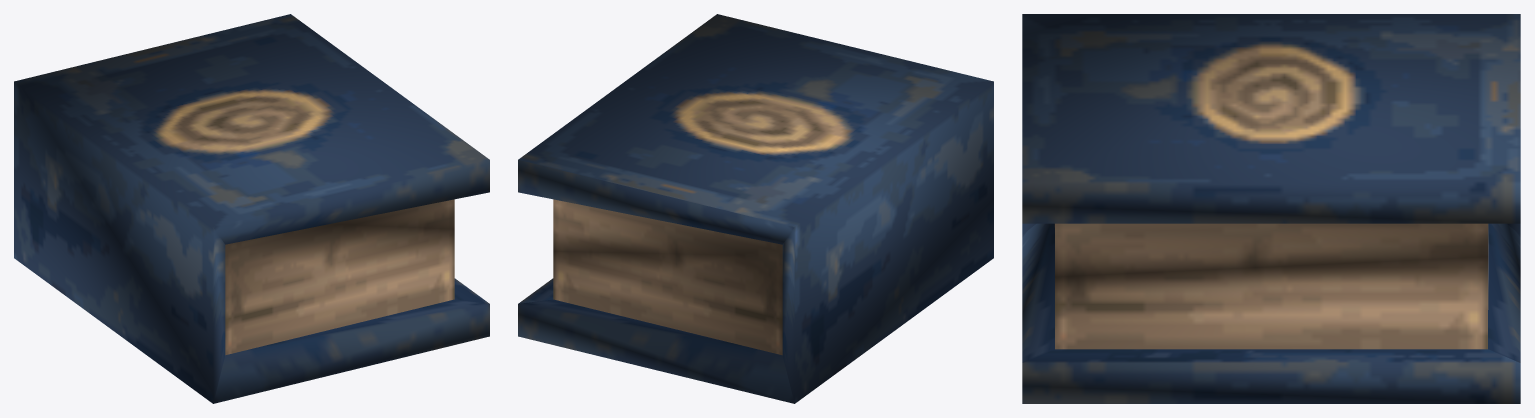
File: book_01_6823e556.glb
The picture shows the model from 3 angles, left to right: view 1: azimuth 30°, elevation 25°; view 2: azimuth 150°, elevation 25°; view 3: azimuth 270°, elevation 25°; orthographic projection. The views are drawn at different scales.
Bounding box in the file's own units: 0.4736 × 0.289 × 0.5905.
Materials: 1 (1 with a texture image).
